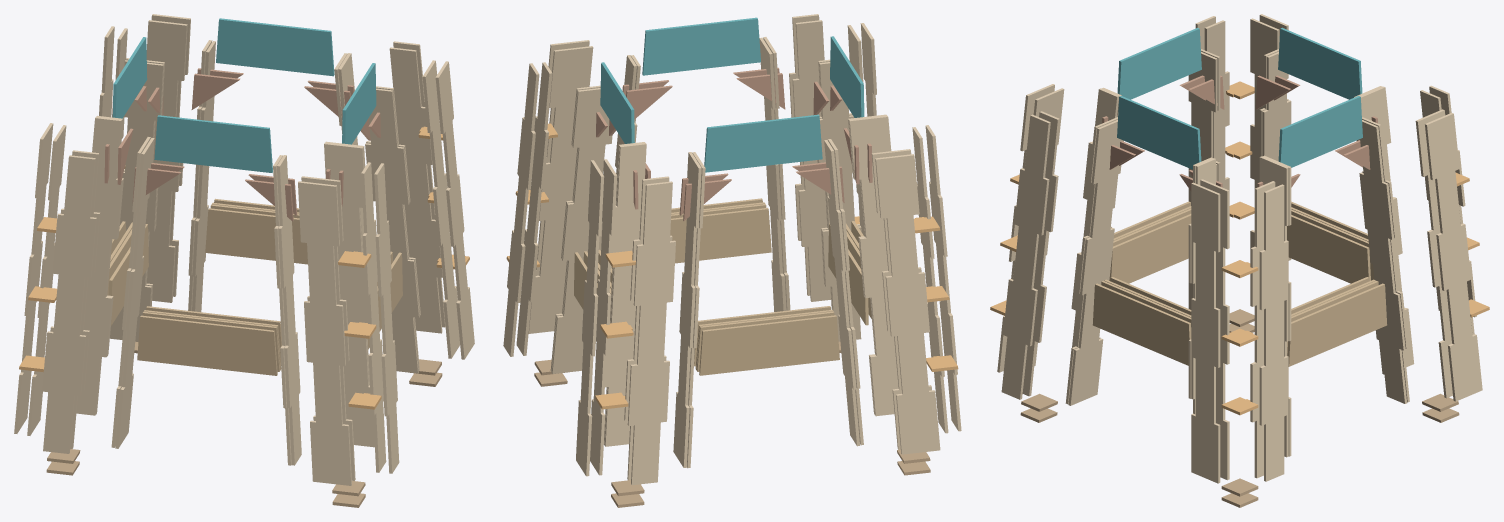
Rendered from R20_DISPLAY_EXPLODED.glb.
3 views of the same model, side by side, from view 1: azimuth 30°, elevation 25°; view 2: azimuth 150°, elevation 25°; view 3: azimuth 270°, elevation 25° (orthographic). The views are drawn at different scales.
Parts seen in each view (by area): view 1: A01_LEG1_NEG_P1, A02_LEG4_NEG_P1, A02_LEG2_NEG_P2, A01_LEG1_POS_P1, C01_SIDE4_1_P1, A02_LEG2_POS_P2, A02_LEG4_POS_P1, B01_SIDE2_1_P1, B01_SIDE4_1_P1, A01_LEG3_NEG_P2, A01_LEG2_NEG_P1, A02_LEG1_NEG_P1 (+29 smaller); view 2: A01_LEG4_NEG_P1, A02_LEG3_NEG_P1, A01_LEG2_NEG_P2, A01_LEG4_POS_P1, A01_LEG2_POS_P2, C01_SIDE3_1_P1, A02_LEG3_POS_P1, B01_SIDE1_1_P1, B01_SIDE3_1_P1, A02_LEG1_NEG_P2, A01_LEG3_NEG_P1, A01_LEG3_POS_P1 (+30 smaller); view 3: A01_LEG2_NEG_P1, A01_LEG3_NEG_P1, A02_LEG2_NEG_P1, A02_LEG1_NEG_P1, A01_LEG1_POS_P2, A02_LEG3_POS_P2, C01_SIDE2_1_P1, C01_SIDE1_1_P1, B01_SIDE1_1_P1, B01_SIDE4_1_P1, B01_SIDE3_1_P1, B01_SIDE2_1_P1 (+25 smaller).
Boxes of the visible parts, box(x1,y1,x2,y2) form: A01_LEG1_NEG_P1: box(298, 181, 351, 485); A02_LEG4_NEG_P1: box(42, 155, 96, 453); A02_LEG2_NEG_P2: box(389, 47, 442, 333); A01_LEG1_POS_P1: box(324, 143, 374, 447); C01_SIDE4_1_P1: box(137, 315, 277, 375); A02_LEG2_POS_P2: box(365, 88, 419, 373); A02_LEG4_POS_P1: box(76, 117, 122, 415); B01_SIDE2_1_P1: box(216, 18, 334, 76); B01_SIDE4_1_P1: box(154, 115, 272, 172); A01_LEG3_NEG_P2: box(146, 20, 187, 302); A01_LEG2_NEG_P1: box(435, 61, 474, 359); A02_LEG1_NEG_P1: box(374, 163, 399, 473); A01_LEG4_NEG_P1: box(875, 154, 940, 454); A02_LEG3_NEG_P1: box(627, 181, 675, 485); A01_LEG2_NEG_P2: box(528, 46, 593, 333); A01_LEG4_POS_P1: box(849, 115, 898, 416); A01_LEG2_POS_P2: box(551, 88, 612, 373); C01_SIDE3_1_P1: box(699, 315, 839, 375); A02_LEG3_POS_P1: box(604, 143, 646, 446); B01_SIDE1_1_P1: box(642, 17, 760, 75); B01_SIDE3_1_P1: box(704, 114, 822, 172); A02_LEG1_NEG_P2: box(792, 20, 830, 301); A01_LEG3_NEG_P1: box(576, 160, 604, 476); A01_LEG3_POS_P1: box(673, 152, 701, 467); A01_LEG2_NEG_P1: box(1191, 182, 1220, 483); A01_LEG3_NEG_P1: box(1425, 113, 1482, 401); A02_LEG2_NEG_P1: box(1259, 184, 1288, 481); A02_LEG1_NEG_P1: box(1001, 114, 1050, 399); A01_LEG1_POS_P2: box(1068, 120, 1123, 405); A02_LEG3_POS_P2: box(1359, 120, 1407, 403); C01_SIDE2_1_P1: box(1287, 283, 1387, 366); C01_SIDE1_1_P1: box(1092, 283, 1191, 365); B01_SIDE1_1_P1: box(1117, 96, 1201, 169); B01_SIDE4_1_P1: box(1117, 27, 1201, 99); B01_SIDE3_1_P1: box(1278, 27, 1362, 99); B01_SIDE2_1_P1: box(1278, 96, 1362, 167).
Size of the model in its own units: 0.6548 by 0.4865 by 0.6548.
